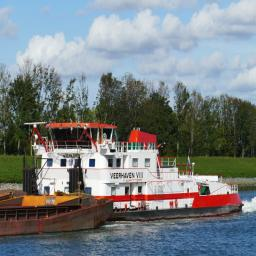tugboat: (20, 115, 247, 226)
